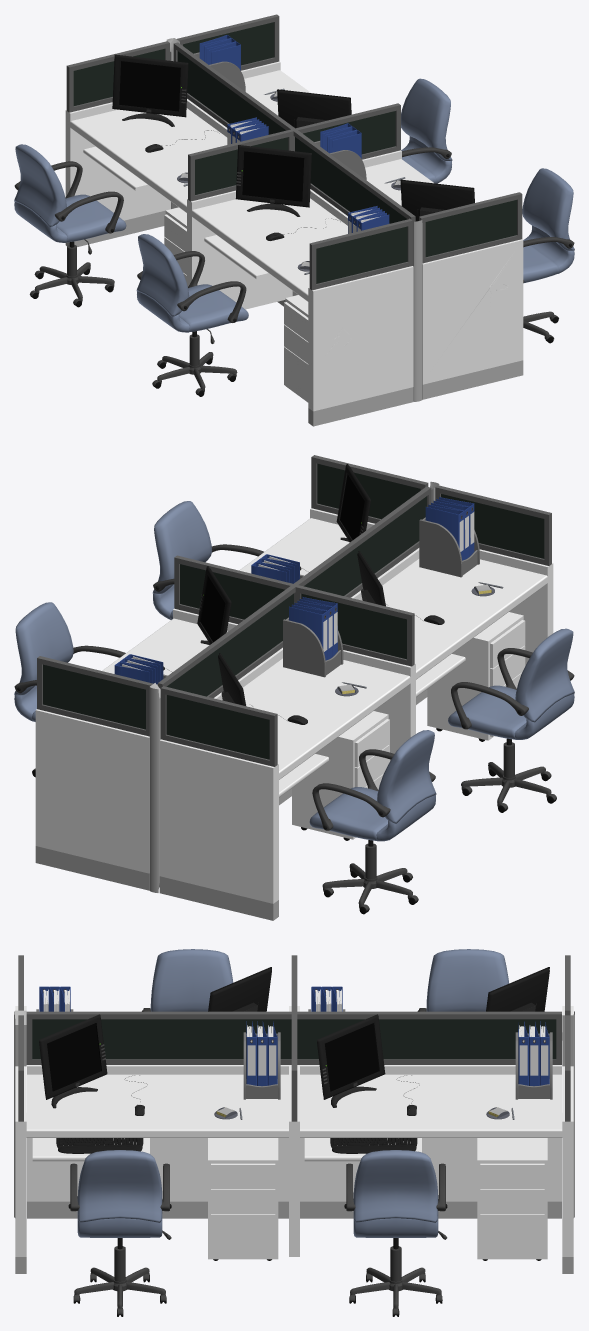
3 views of the same model, one above another, from view 1: azimuth 30°, elevation 25°; view 2: azimuth 150°, elevation 25°; view 3: azimuth 270°, elevation 25° (orthographic). The views are drawn at different scales.
Parts seen in each view (by area): view 1: Line274, Line273, Line277, zjx213, zjx212, Rectangle558, zjx233, Ecran Hecu09, Ecran Hecu08, zjx232, Rectangle567, Rectangle576 (+27 smaller); view 2: Line274, Line273, Line277, Rectangle558, zjx213, zjx212, Line276, Rectangle563, Rectangle580, Rectangle556, Rectangle559, Rectangle557 (+31 smaller); view 3: Line276, Rectangle558, Line274, Rectangle559, zjx232, zjx233, Line277, zjx213, zjx212, Ecran Hecu11, Ecran Hecu10, Line275 (+22 smaller).
Part boxes in pixels (x1,y1,x2,y2): Line274: [65, 99, 413, 411]; Line273: [70, 108, 347, 301]; Line277: [241, 61, 523, 384]; zjx213: [14, 144, 126, 242]; zjx212: [136, 234, 248, 332]; Rectangle558: [177, 51, 407, 223]; zjx233: [522, 168, 574, 282]; Ecran Hecu09: [112, 54, 188, 126]; Ecran Hecu08: [235, 145, 311, 216]; zjx232: [401, 78, 452, 183]; Rectangle567: [316, 226, 407, 283]; Rectangle576: [425, 200, 516, 257]; Line274: [159, 548, 553, 903]; Line273: [243, 559, 547, 779]; Line277: [35, 508, 374, 873]; Rectangle558: [166, 496, 426, 696]; zjx213: [309, 730, 436, 841]; zjx212: [448, 628, 574, 739]; Line276: [102, 518, 349, 675]; Rectangle563: [166, 695, 269, 759]; Rectangle580: [43, 664, 145, 729]; Rectangle556: [427, 612, 523, 740]; Rectangle559: [158, 486, 431, 698]; Rectangle557: [292, 711, 388, 839]; Line276: [26, 1074, 562, 1137]; Rectangle558: [32, 1019, 556, 1059]; Line274: [15, 1006, 573, 1201]; Rectangle559: [26, 1011, 561, 1064]; zjx232: [353, 1150, 438, 1237]; zjx233: [77, 1150, 162, 1237]; Line277: [15, 1066, 573, 1256]; zjx213: [426, 949, 509, 1011]; zjx212: [150, 949, 233, 1011]; Ecran Hecu11: [39, 1014, 107, 1108]; Ecran Hecu10: [317, 1014, 385, 1107]; Line275: [27, 1201, 561, 1218].
Bounding box in the file's own units: 90.71 × 43.68 × 104.
